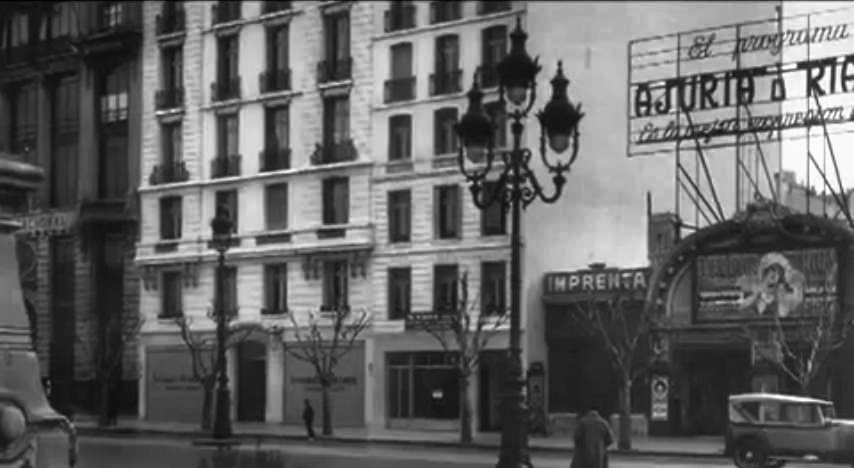fachada: (143, 1, 539, 436), (538, 161, 854, 459), (3, 1, 142, 420)
poste: (460, 16, 584, 468), (200, 205, 250, 449)
